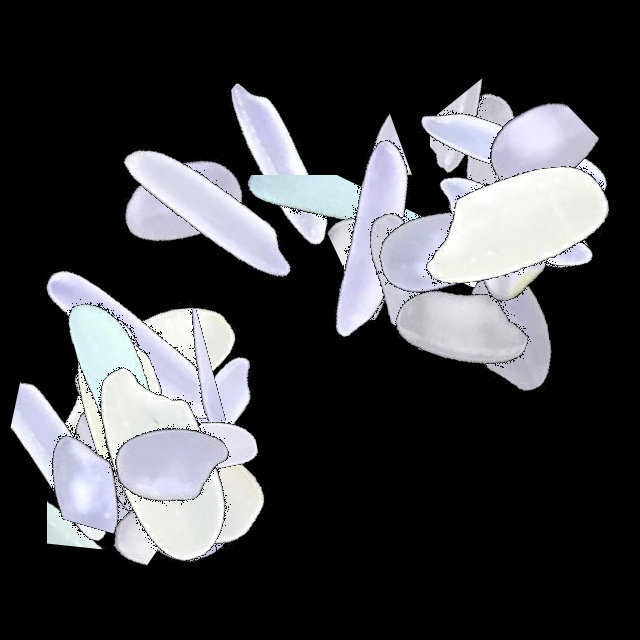Broken: (276, 162, 450, 412), (389, 88, 639, 257), (5, 337, 172, 587), (19, 321, 177, 571), (136, 258, 290, 508), (16, 283, 266, 436), (0, 372, 250, 518), (288, 177, 538, 320), (0, 439, 250, 577), (198, 175, 448, 309), (430, 24, 556, 274), (66, 372, 180, 622), (28, 309, 278, 421), (47, 369, 156, 619), (104, 303, 210, 553), (224, 104, 474, 209), (165, 102, 415, 195), (531, 253, 612, 503), (86, 371, 167, 621), (0, 387, 250, 467)
Full: (14, 252, 264, 502), (57, 75, 307, 325), (54, 390, 304, 640), (75, 311, 325, 561), (390, 77, 640, 327), (43, 310, 293, 560), (155, 37, 405, 287), (5, 219, 255, 469), (86, 83, 336, 333), (0, 282, 250, 532), (47, 342, 297, 592), (245, 111, 495, 361), (0, 377, 250, 627), (308, 127, 558, 377), (10, 296, 260, 546), (390, 108, 640, 358), (0, 333, 250, 583), (57, 323, 307, 573), (359, 38, 609, 288), (384, 205, 634, 455), (390, 98, 640, 348), (337, 201, 587, 451), (390, 28, 640, 278), (0, 301, 250, 551), (0, 289, 250, 539), (390, 113, 640, 363), (0, 275, 250, 525), (29, 342, 279, 592), (48, 336, 298, 586), (390, 100, 640, 350)
